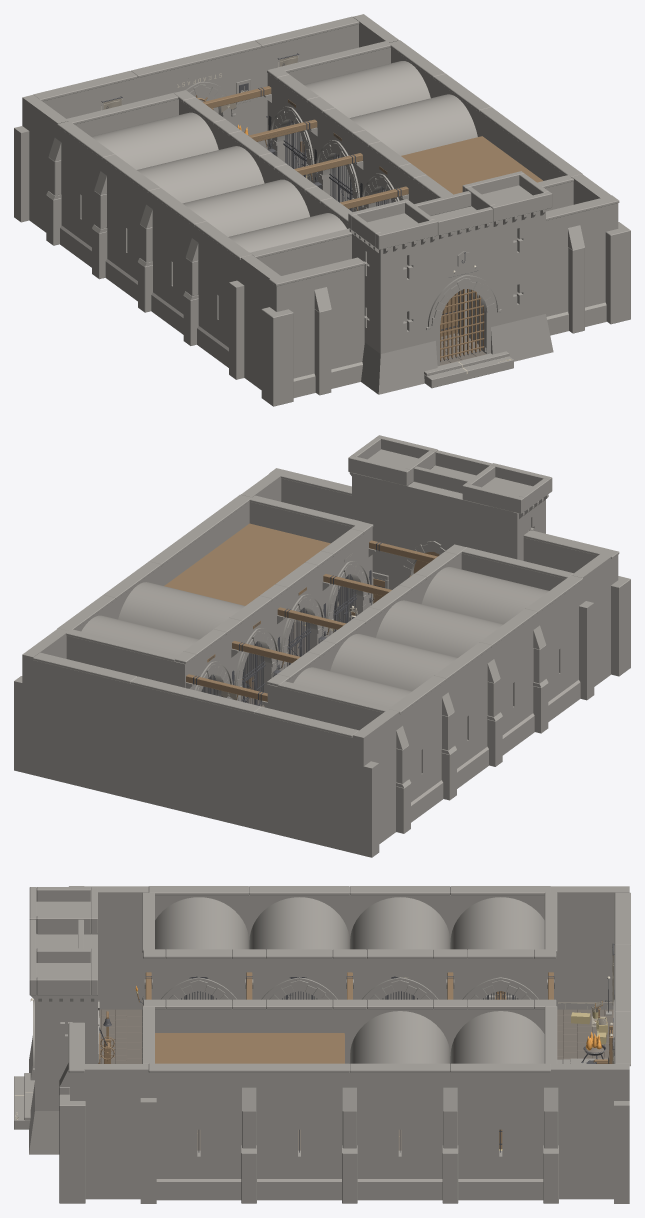
Rendered from ThePit.dae.
3 views of the same model, one above another, from view 1: azimuth 30°, elevation 25°; view 2: azimuth 150°, elevation 25°; view 3: azimuth 270°, elevation 25° (orthographic). The views are drawn at different scales.
Visible parts, largest first — view 1: G_Tower_W, G_Wall_W, G_Tower_E, G_Wall_E, N_Back_C, G_Arch, C04_Wall, C03_Wall, C02_Wall, C01_Wall, C07_Vault, N_Wall_W (+35 smaller); view 2: N_Back_C, N_Back_E, N_Back_W, G_Tower_E, C05_Roof, G_Tower_W, C02_Wall, C01_Wall, C04_Wall, C03_Wall, N_Wall_W, G_Arch (+36 smaller); view 3: C05_Wall, C08_Wall, C07_Wall, N_Wall_E, V_Wall_E, G_Tower_E, N_Wall_W, C05_Roof, V_Wall_W, C07_Vault, C03_Vault, C02_Vault (+38 smaller).
Boxes of the visible parts, x1,y1,x2,y2 form: G_Tower_W: [348, 199, 439, 394]; G_Wall_W: [261, 257, 364, 406]; G_Tower_E: [458, 171, 553, 361]; G_Wall_E: [546, 195, 630, 335]; N_Back_C: [131, 40, 261, 135]; G_Arch: [414, 191, 501, 329]; C04_Wall: [46, 121, 114, 267]; C03_Wall: [92, 154, 160, 301]; C02_Wall: [138, 188, 206, 334]; C01_Wall: [183, 221, 251, 367]; C07_Vault: [349, 94, 477, 155]; N_Wall_W: [14, 95, 68, 232]; N_Back_C: [130, 676, 261, 829]; N_Back_E: [33, 652, 137, 798]; N_Back_W: [254, 706, 358, 852]; G_Tower_E: [348, 435, 437, 603]; C05_Roof: [164, 523, 330, 605]; G_Tower_W: [462, 463, 552, 560]; C02_Wall: [480, 609, 537, 766]; C01_Wall: [525, 575, 582, 733]; C04_Wall: [389, 676, 445, 833]; C03_Wall: [434, 642, 491, 800]; N_Wall_W: [352, 709, 399, 857]; G_Arch: [402, 450, 492, 576]; C05_Wall: [148, 1063, 357, 1203]; C08_Wall: [450, 1063, 558, 1203]; C07_Wall: [350, 1063, 458, 1203]; N_Wall_E: [551, 1064, 629, 1203]; V_Wall_E: [84, 1064, 156, 1203]; G_Tower_E: [29, 948, 97, 1154]; N_Wall_W: [551, 886, 629, 1009]; C05_Roof: [155, 1033, 344, 1063]; V_Wall_W: [84, 886, 148, 1009]; C07_Vault: [350, 1011, 450, 1063]; C03_Vault: [350, 897, 450, 949]; C02_Vault: [249, 897, 349, 949].
Size of the model in its own units: 26 by 35.27 by 11.
